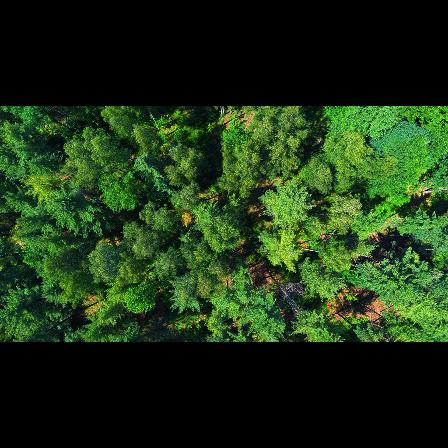Dead: (271, 277, 311, 318)
